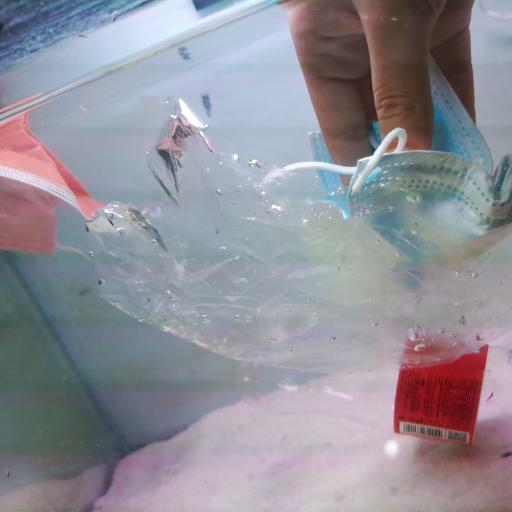mask: (261, 126, 512, 245), (0, 112, 96, 256)
plastic_bag: (96, 98, 512, 370)
plastic_bottle: (246, 316, 512, 468)
